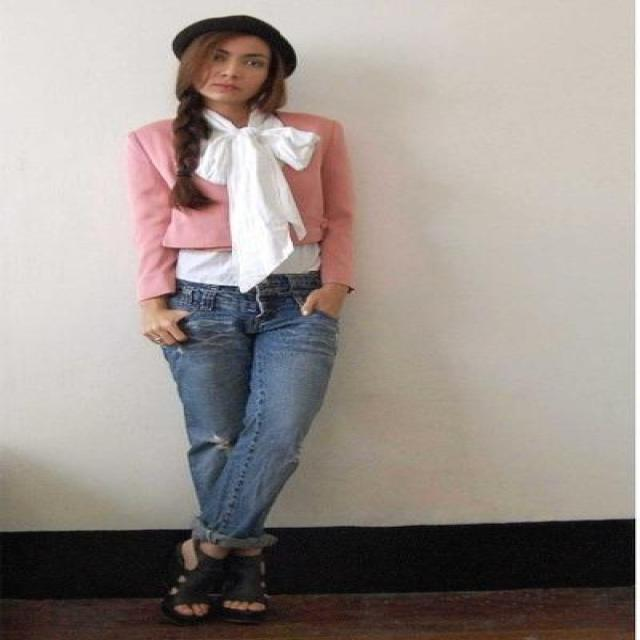hat: (213, 15, 296, 78)
pants: (150, 270, 338, 557)
shirt: (126, 96, 365, 309), (176, 246, 318, 284)
shoe: (173, 550, 269, 608)
